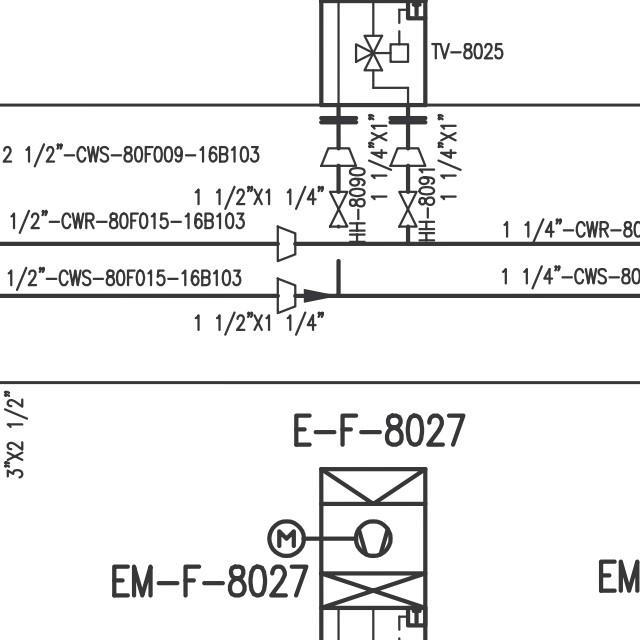3W: (350, 29, 382, 73)
GV: (323, 186, 351, 230), (393, 187, 419, 229)
M: (266, 516, 307, 557)
SP: (272, 222, 301, 263), (272, 276, 299, 319), (388, 142, 427, 171), (317, 142, 358, 169)
